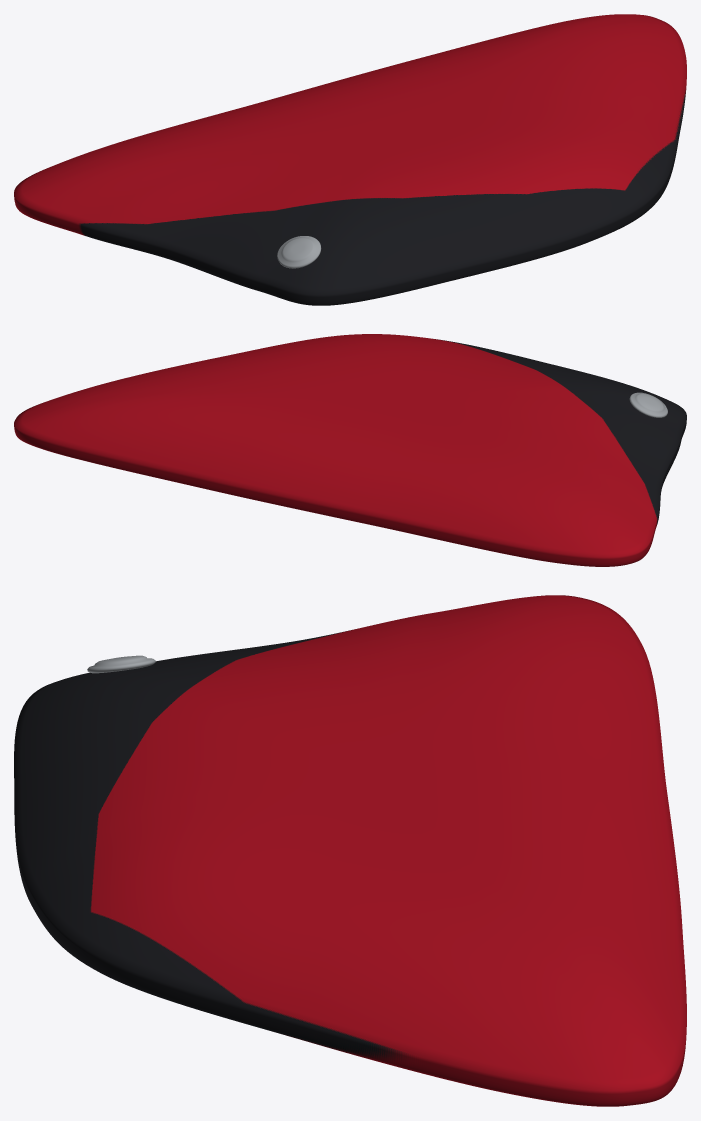
Rendered from side-cover-left-candidate-v2.glb.
3 views of the same model, one above another, from view 1: azimuth 30°, elevation 25°; view 2: azimuth 150°, elevation 25°; view 3: azimuth 270°, elevation 25° (orthographic). The views are drawn at different scales.
Parts seen in each view (by area): view 1: LEFT_COVER_OUTER_SKIN, LEFT_COVER_VISIBLE_LOWER_FASTENER; view 2: LEFT_COVER_OUTER_SKIN, LEFT_COVER_VISIBLE_LOWER_FASTENER; view 3: LEFT_COVER_OUTER_SKIN, LEFT_COVER_VISIBLE_LOWER_FASTENER.
Part boxes in pixels (x1,y1,x2,y2): LEFT_COVER_OUTER_SKIN: (14, 14, 686, 305); LEFT_COVER_VISIBLE_LOWER_FASTENER: (277, 236, 321, 268); LEFT_COVER_OUTER_SKIN: (14, 334, 686, 566); LEFT_COVER_VISIBLE_LOWER_FASTENER: (629, 392, 667, 417); LEFT_COVER_OUTER_SKIN: (14, 595, 686, 1106); LEFT_COVER_VISIBLE_LOWER_FASTENER: (87, 655, 155, 673).
Bounding box in the file's own units: 0.3536 × 0.0286 × 0.2029.
2 materials, 1 textured.
